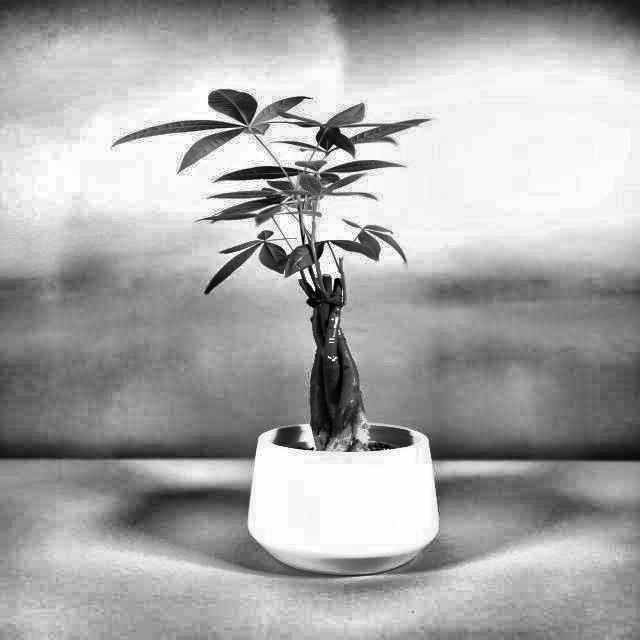plants: (114, 83, 428, 450)
